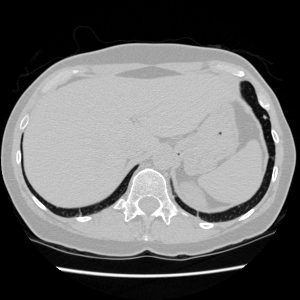nodule: (262, 113, 268, 119)
